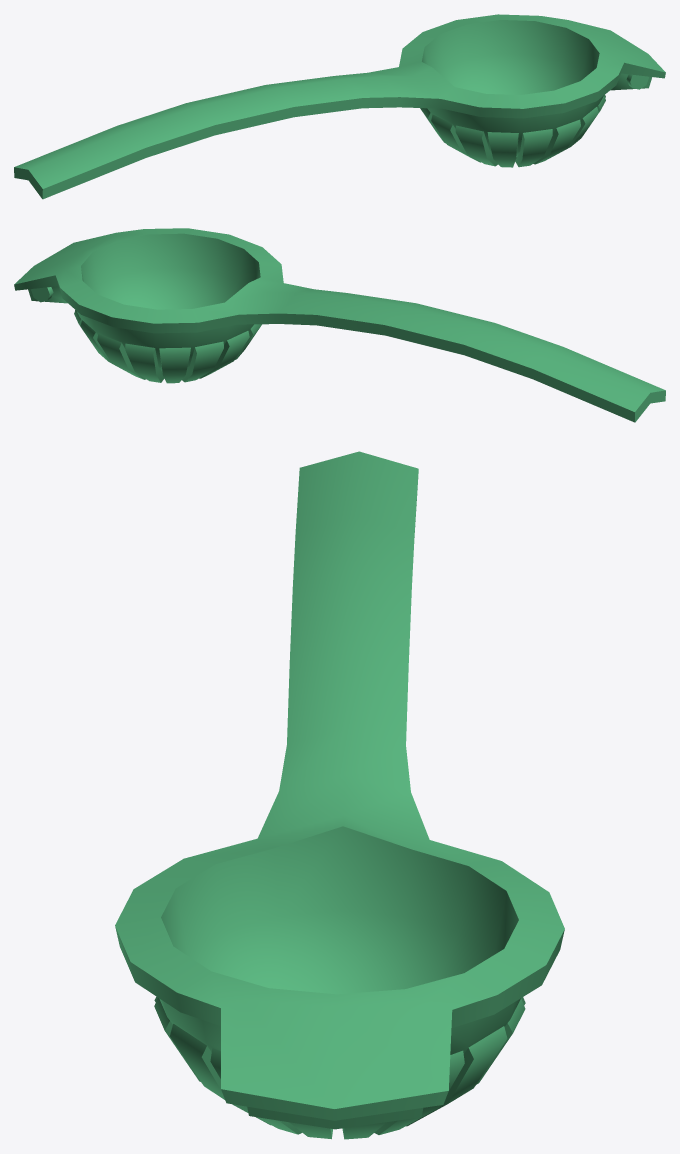
Rendered from juicer_juicer_mechanical_top.fbx.
3 renders of one model, top to bottom at view 1: azimuth 30°, elevation 25°; view 2: azimuth 150°, elevation 25°; view 3: azimuth 270°, elevation 25°, orthographic. The views are drawn at different scales.
Visible parts, largest first — view 1: juicer juicer mechanical top; view 2: juicer juicer mechanical top; view 3: juicer juicer mechanical top.
Boxes of the visible parts, <box> form: juicer juicer mechanical top: <box>14,14,665,199</box>; juicer juicer mechanical top: <box>14,228,665,422</box>; juicer juicer mechanical top: <box>115,451,564,1139</box>.
Size of the model in its own units: 668 by 127 by 212.
1 material, 1 textured.
